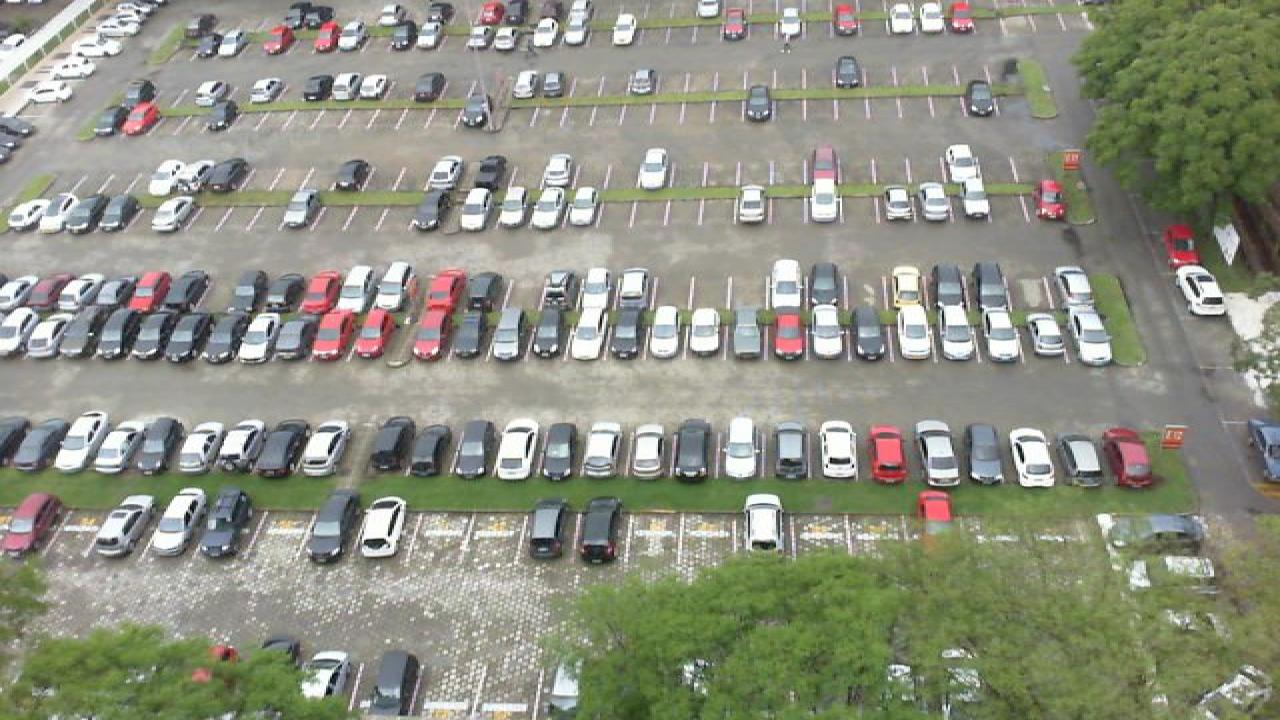Car: (86, 488, 156, 559), (304, 487, 362, 563), (0, 493, 66, 559), (144, 487, 206, 557), (200, 488, 258, 562), (534, 644, 588, 720), (298, 647, 356, 715), (366, 649, 420, 719), (912, 418, 964, 486), (254, 418, 310, 480), (522, 498, 576, 562), (354, 495, 406, 560), (1102, 426, 1156, 488), (132, 415, 186, 476), (1008, 424, 1060, 487), (574, 497, 622, 565), (492, 418, 544, 480), (912, 490, 962, 554), (56, 410, 110, 469), (298, 420, 354, 476), (214, 417, 266, 476), (740, 493, 786, 559), (18, 415, 72, 471), (170, 418, 222, 476), (962, 423, 1010, 485), (92, 419, 146, 474), (814, 420, 862, 481), (1056, 430, 1106, 488), (1174, 263, 1228, 316), (92, 307, 144, 362), (1064, 307, 1116, 362), (764, 419, 810, 481), (370, 416, 418, 475), (718, 416, 762, 480), (166, 310, 216, 364), (582, 419, 626, 480), (626, 422, 672, 480), (866, 425, 910, 485), (674, 419, 716, 481), (198, 313, 250, 363), (234, 313, 286, 363), (306, 308, 356, 360), (454, 420, 498, 479), (538, 422, 582, 481), (406, 307, 454, 361), (974, 305, 1020, 361), (564, 306, 610, 361), (1016, 312, 1066, 361), (348, 307, 394, 360), (414, 422, 456, 479), (606, 305, 648, 362), (934, 305, 976, 362), (56, 309, 102, 360), (526, 308, 570, 361), (808, 307, 850, 362), (416, 266, 464, 314), (372, 260, 416, 312), (158, 269, 210, 313), (20, 313, 68, 359), (132, 312, 176, 362), (688, 305, 728, 360), (892, 306, 932, 361), (448, 309, 490, 361), (1054, 265, 1098, 314), (338, 263, 380, 314), (648, 308, 688, 361), (768, 307, 808, 360), (488, 309, 528, 361), (458, 270, 504, 315), (850, 307, 888, 361), (274, 312, 318, 358), (978, 262, 1020, 310), (1160, 224, 1208, 266), (730, 308, 768, 361), (808, 261, 848, 311), (534, 270, 578, 315), (0, 415, 38, 467), (122, 270, 168, 312), (766, 259, 804, 309), (300, 270, 342, 315), (934, 260, 972, 309), (90, 270, 134, 312), (888, 264, 928, 310), (266, 269, 306, 315), (576, 264, 614, 312), (410, 189, 452, 232), (230, 270, 270, 315), (612, 266, 652, 310), (18, 272, 62, 312), (422, 154, 466, 194), (806, 179, 844, 225), (954, 176, 992, 222), (4, 195, 52, 231), (454, 187, 492, 232), (148, 196, 194, 233), (280, 189, 322, 229), (528, 184, 566, 228), (0, 308, 36, 354), (146, 158, 192, 194), (492, 186, 530, 229), (54, 274, 96, 312), (734, 183, 772, 225), (916, 181, 954, 223), (636, 146, 672, 190), (206, 158, 252, 192), (942, 143, 982, 182), (42, 192, 80, 233), (564, 185, 602, 226), (468, 153, 510, 190), (176, 158, 218, 194), (538, 152, 576, 191), (1034, 179, 1070, 219), (964, 79, 1000, 119), (118, 101, 158, 137), (86, 101, 126, 137), (876, 188, 918, 222), (80, 192, 114, 233), (808, 144, 842, 184), (332, 158, 372, 192), (246, 75, 288, 106), (740, 86, 776, 122), (456, 94, 492, 130), (298, 73, 338, 104), (106, 197, 142, 231), (116, 79, 158, 108), (830, 3, 864, 37), (832, 54, 864, 90), (914, 0, 946, 35), (946, 0, 978, 35), (190, 79, 228, 108), (180, 27, 214, 59), (258, 23, 292, 55), (412, 71, 448, 101), (508, 69, 544, 99), (722, 4, 752, 40), (0, 274, 28, 312), (462, 22, 496, 53), (412, 17, 442, 52), (774, 5, 804, 40), (886, 2, 916, 37), (610, 12, 640, 46), (626, 66, 658, 97), (330, 72, 364, 101), (212, 28, 244, 58), (308, 24, 340, 54), (360, 72, 394, 100), (560, 16, 590, 47), (496, 22, 526, 52), (352, 23, 382, 52), (538, 70, 568, 98), (530, 22, 560, 48)
